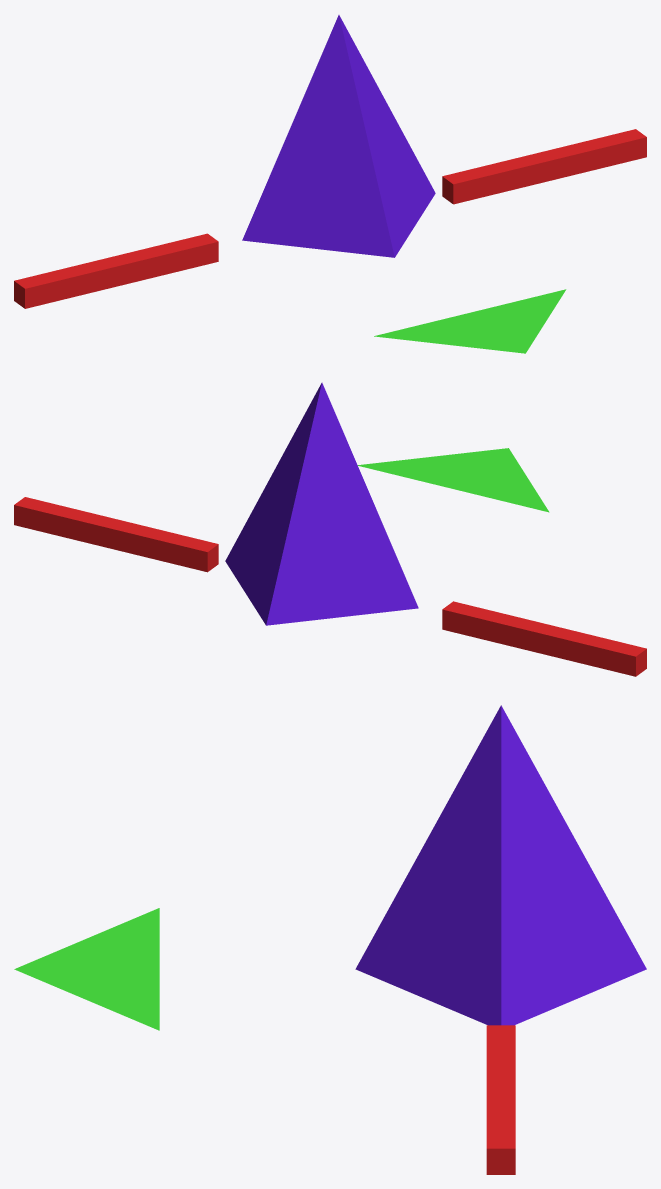
3 views of the same model, one above another, from view 1: azimuth 30°, elevation 25°; view 2: azimuth 150°, elevation 25°; view 3: azimuth 270°, elevation 25° (orthographic). The views are drawn at different scales.
Visible parts, largest first — view 1: Cone, Cube.002, Cube.001, Cone.001; view 2: Cone, Cube.001, Cube.002, Cone.001; view 3: Cone, Cone.001, Cube.001.
Part boxes in pixels (x1,y1,x2,y2): Cone: (242, 15, 435, 257); Cube.002: (14, 233, 218, 308); Cube.001: (442, 129, 646, 204); Cone.001: (374, 289, 566, 353); Cone: (225, 382, 418, 625); Cube.001: (14, 497, 218, 572); Cube.002: (442, 601, 646, 676); Cone.001: (358, 448, 549, 512); Cone: (355, 705, 646, 1025); Cone.001: (14, 908, 159, 1030); Cube.001: (486, 1025, 515, 1174).
Bounding box in the file's own units: 6.42 × 2.1 × 4.34.
